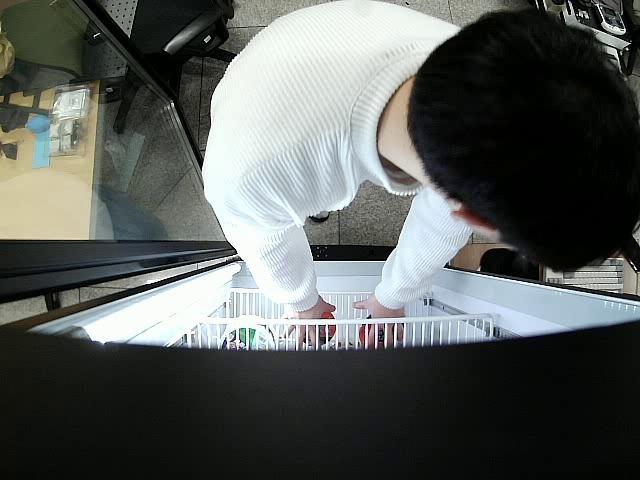02_shinRamen_S: (359, 314, 402, 350), (304, 312, 334, 344)
